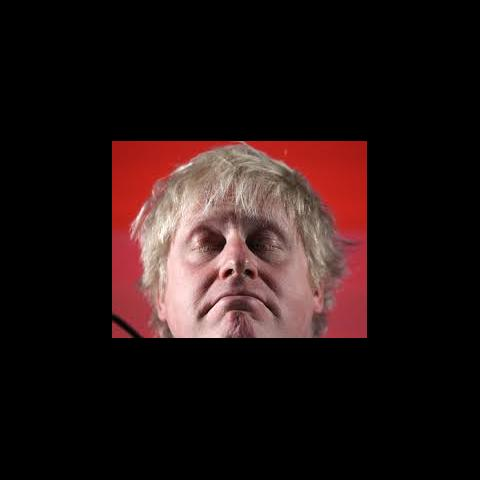closed: (179, 210, 299, 270)
